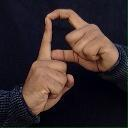hand: (22, 17, 75, 118), (47, 8, 120, 73)
